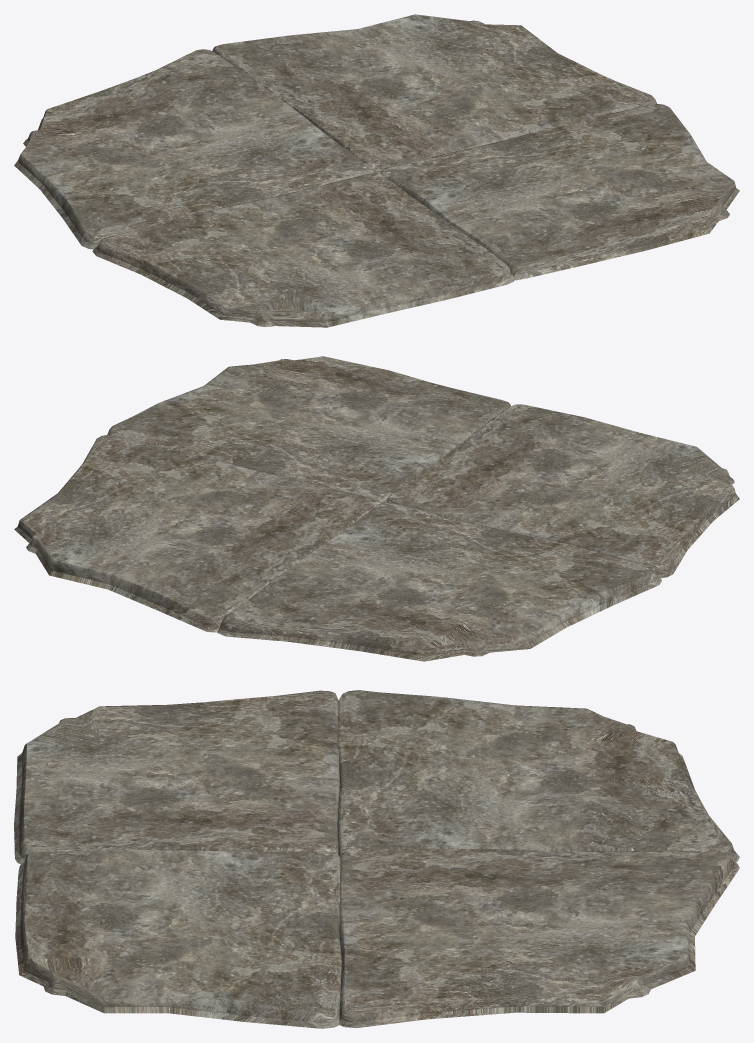
The model's file is Tower_Slates.FBX.
The picture shows the model from 3 angles, top to bottom: view 1: azimuth 30°, elevation 25°; view 2: azimuth 150°, elevation 25°; view 3: azimuth 270°, elevation 25°; orthographic projection. The views are drawn at different scales.
Parts seen in each view (by area): view 1: Tower_Slates; view 2: Tower_Slates; view 3: Tower_Slates.
Part boxes in pixels (box(x1,y1,x2,y2)): Tower_Slates: box(14, 14, 739, 327); Tower_Slates: box(14, 356, 739, 661); Tower_Slates: box(14, 690, 739, 1028).
Size of the model in its own units: 446 by 11.26 by 415.
